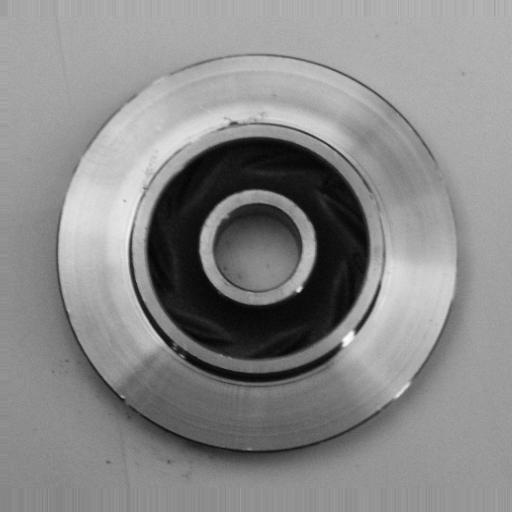crack: (204, 110, 275, 137)
scratch: (330, 318, 364, 362)
unpolished_casting: (55, 51, 461, 458)
